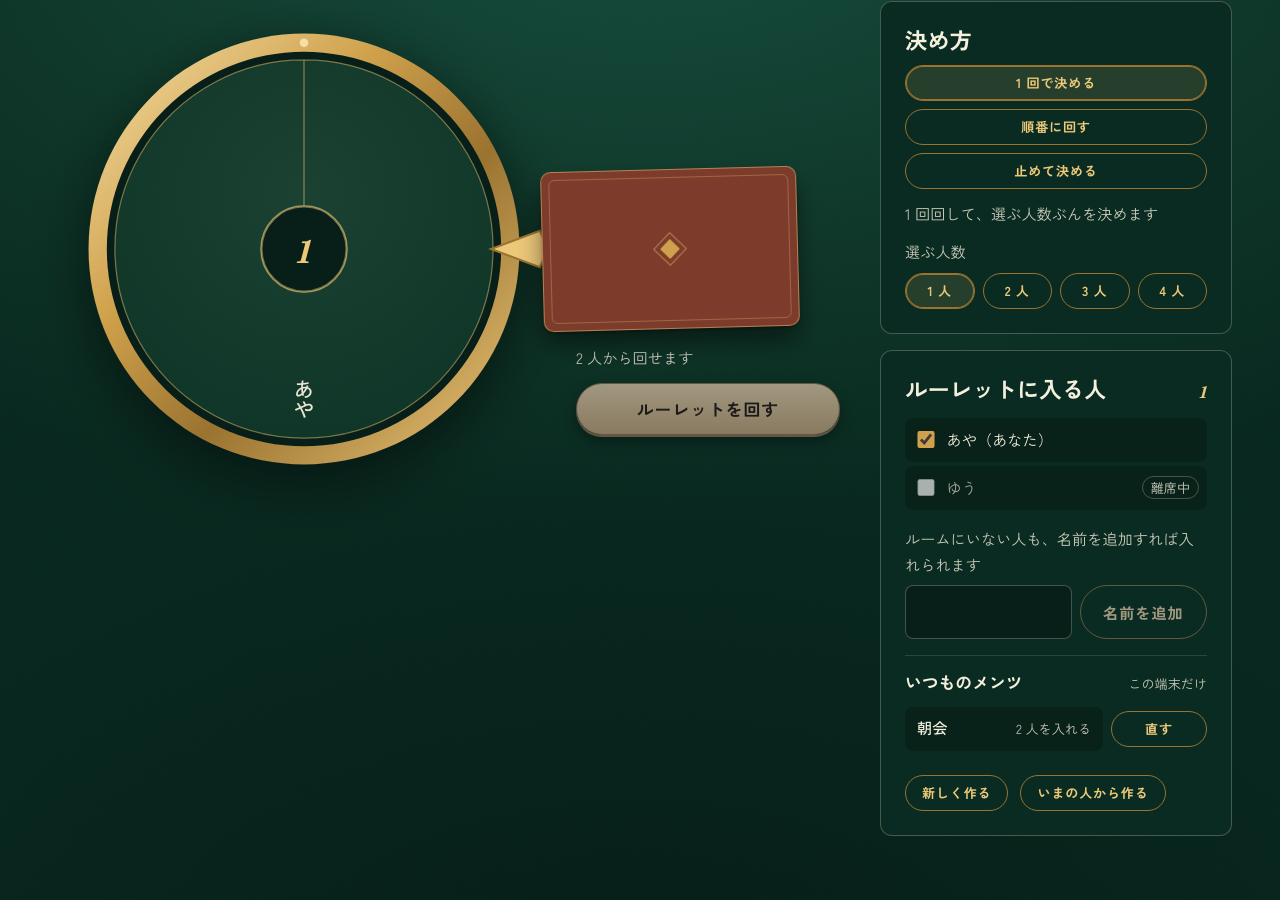
いつものメンツを入れる（#458） › Given 離席中（offline）の参加者と同じ名前を含む組 / When 札を押す / Then 名簿の全員と比べて、その人はとばす
The image size is (1280, 900).
(page scrolled)
Click the button "朝会 2 人を入れる".
click(1004, 729)  # box [905,707,1103,751]
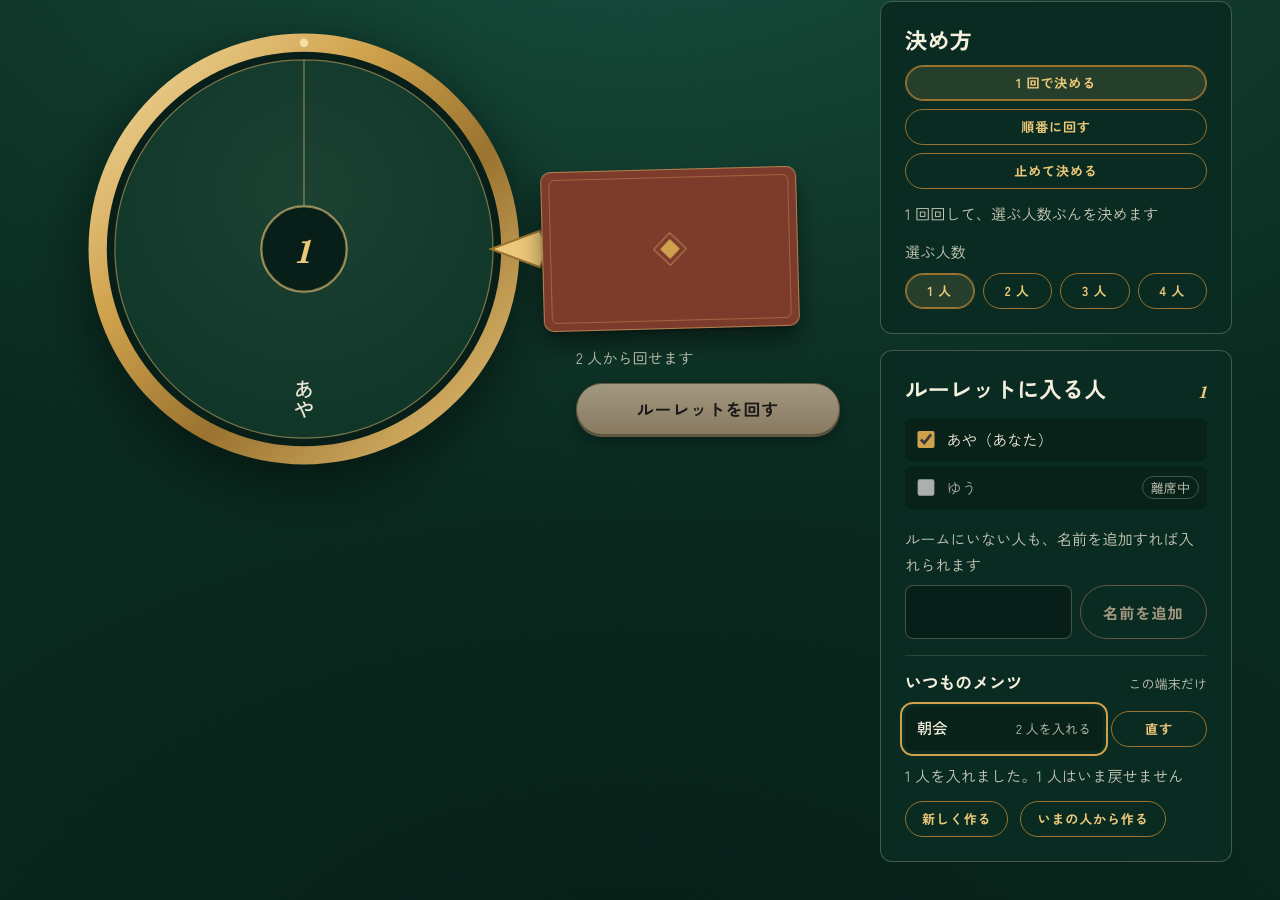
Expected: the message "1 人を入れました。1 人はいま戻せません" is shown, [905,763,1207,789]
